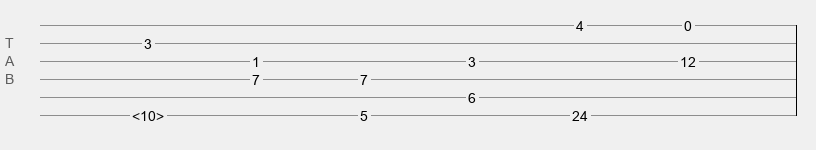0: (684, 18, 692, 28)
1: (252, 54, 260, 64)
12: (680, 54, 696, 64)
24: (572, 108, 588, 118)
3: (144, 36, 152, 46), (468, 54, 476, 64)
4: (576, 18, 584, 28)
5: (360, 108, 368, 118)
6: (468, 90, 476, 100)
7: (252, 72, 260, 82), (360, 72, 368, 82)
harmonic: (132, 108, 164, 118)
